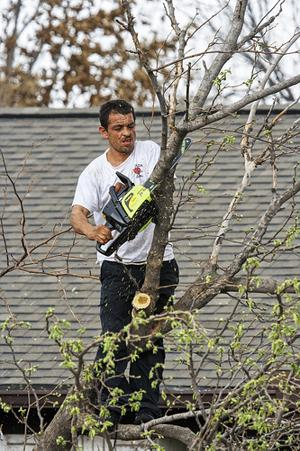person: (68, 97, 180, 432)
